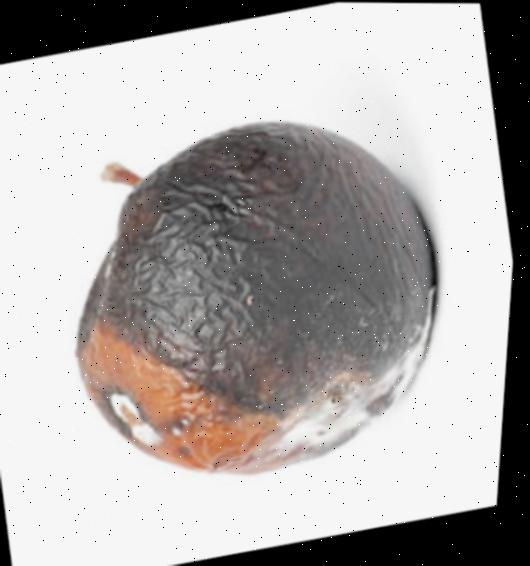ROT: (0, 55, 526, 525)
